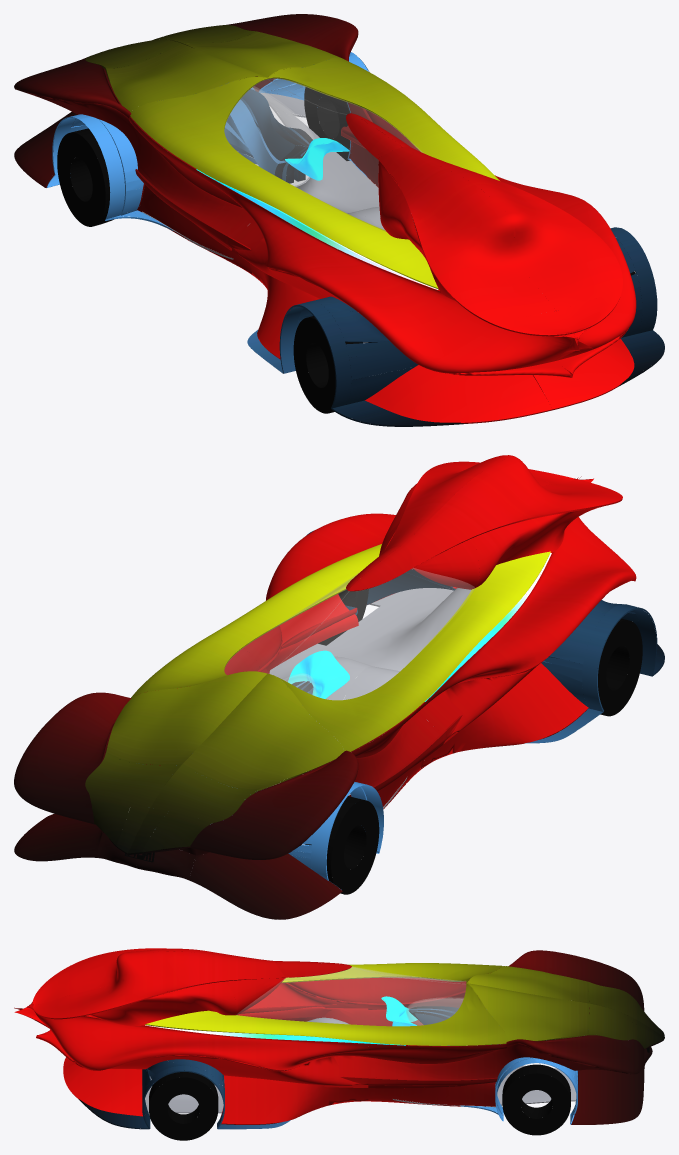
Rendered from XYZ008-red-v4.glb.
3 views of the same model, one above another, from view 1: azimuth 30°, elevation 25°; view 2: azimuth 150°, elevation 25°; view 3: azimuth 270°, elevation 25° (orthographic). The views are drawn at different scales.
Visible parts, largest first — view 1: ARAC, Merged Objects 7, Merged Objects 8; view 2: ARAC, Merged Objects 7, Merged Objects 8; view 3: ARAC, Merged Objects 7, Merged Objects 8.
Boxes of the visible parts, x1,y1,x2,y2 form: ARAC: [14, 14, 664, 426]; Merged Objects 7: [57, 87, 635, 413]; Merged Objects 8: [196, 138, 438, 289]; ARAC: [14, 455, 664, 919]; Merged Objects 7: [124, 589, 642, 894]; Merged Objects 8: [288, 553, 551, 701]; ARAC: [14, 948, 664, 1129]; Merged Objects 7: [149, 1029, 649, 1140]; Merged Objects 8: [145, 996, 417, 1045].
Size of the model in its own units: 2.57 by 1.48 by 6.37.
9 materials, 6 textured.
